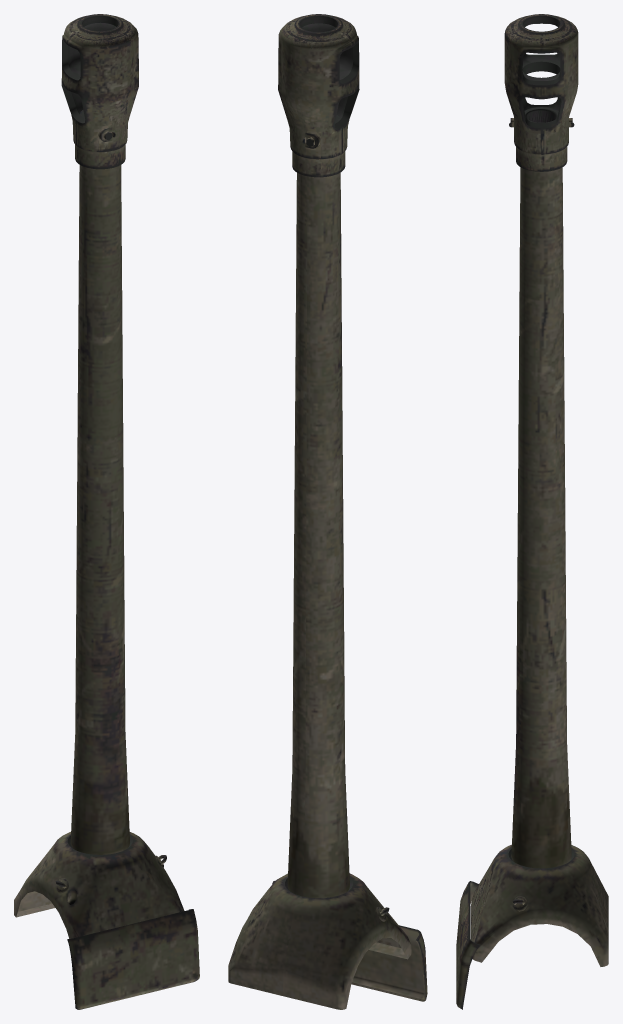
The model's file is Gun_01.glb.
The picture shows the model from 3 angles, left to right: view 1: azimuth 30°, elevation 25°; view 2: azimuth 150°, elevation 25°; view 3: azimuth 270°, elevation 25°; orthographic projection. The views are drawn at different scales.
Visible parts, largest first — view 1: set_0_group_0; view 2: set_0_group_0; view 3: set_0_group_0.
Boxes of the visible parts, x1,y1,x2,y2 form: set_0_group_0: (14, 14, 199, 1009); set_0_group_0: (228, 14, 427, 1009); set_0_group_0: (456, 14, 608, 1009).
Size of the model in its own units: 0.5919 by 4.33 by 0.624.
Materials: 1 (1 with a texture image).
